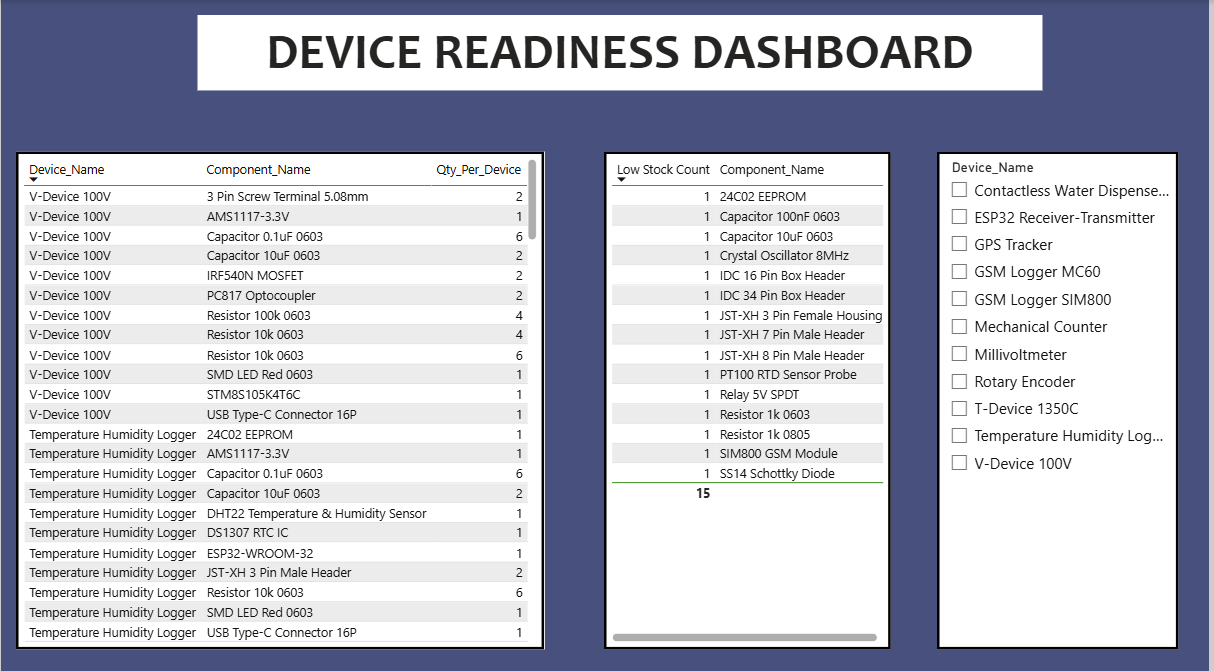

This screenshot's page, from the dashboard's own definition file:
{"tool":"powerbi","page":{"name":"BOM","canvas":[1280,720],"ordinal":2},"visuals":[{"type":"tableEx","fields":{"Values":["BOM_Mapping.Device_Name","BOM_Mapping.Component_Name","BOM_Mapping.Qty_Per_Device"]},"box":[16,160,560,528],"z":2000},{"type":"slicer","fields":{"Values":["BOM_Mapping.Device_Name"]},"box":[992,160,256,528],"z":4000},{"type":"textbox","box":[208,16,896,80],"z":5000},{"type":"tableEx","fields":{"Values":["Component_Master.Low Stock Count","Component_Master.Component_Name"]},"box":[640,160,304,528],"z":6000}]}

Visuals, with their boxes in screenshot pixels (x1, y1, x2, y2), scaled from the page's 1280x720 canvas onto the 1214x671 screenshot:
tableEx - BOM_Mapping.Device_Name x BOM_Mapping.Component_Name: (15, 149, 546, 641)
slicer - BOM_Mapping.Device_Name: (941, 149, 1184, 641)
textbox: (197, 15, 1047, 89)
tableEx - Component_Master.Low Stock Count x Component_Master.Component_Name: (607, 149, 895, 641)
